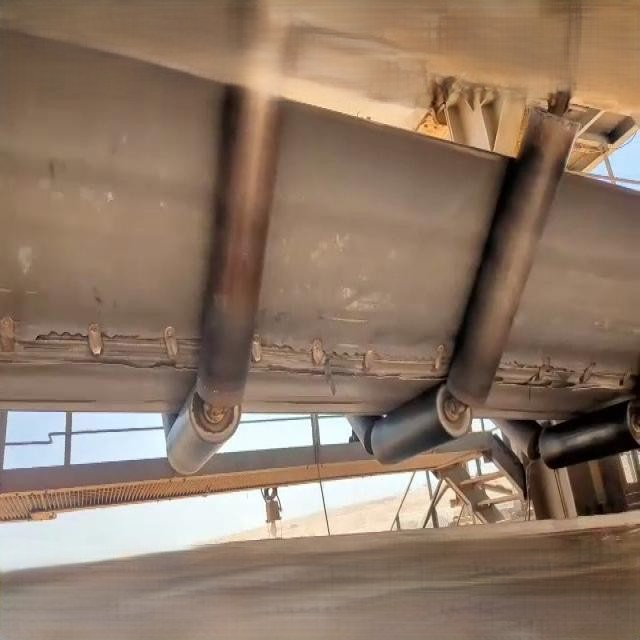Tear: (0, 304, 203, 378), (243, 329, 453, 394), (492, 351, 638, 398)
